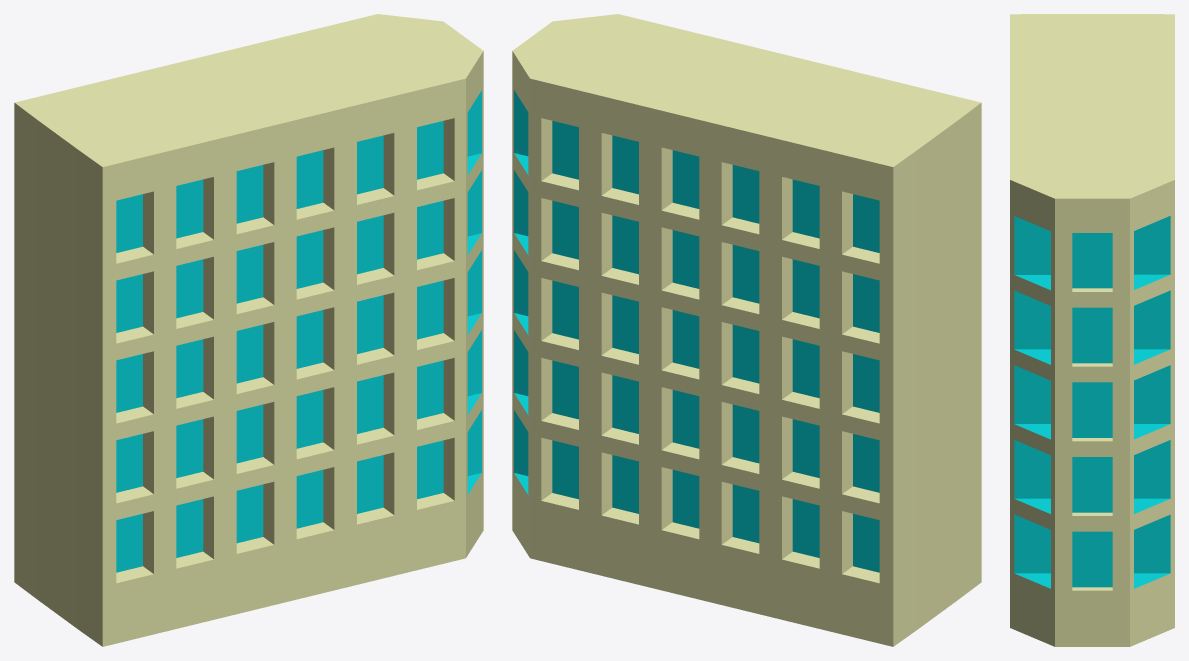
File: Immeuble.fbx
The picture shows the model from 3 angles, left to right: view 1: azimuth 30°, elevation 25°; view 2: azimuth 150°, elevation 25°; view 3: azimuth 270°, elevation 25°; orthographic projection. The views are drawn at different scales.
Parts seen in each view (by area): view 1: Immeuble; view 2: Immeuble; view 3: Immeuble.
Boxes of the visible parts, box(x1,y1,x2,y2) form: Immeuble: box(14, 14, 483, 646); Immeuble: box(512, 14, 981, 646); Immeuble: box(1010, 14, 1174, 646).
Size of the model in its own units: 531 by 600 by 200.
